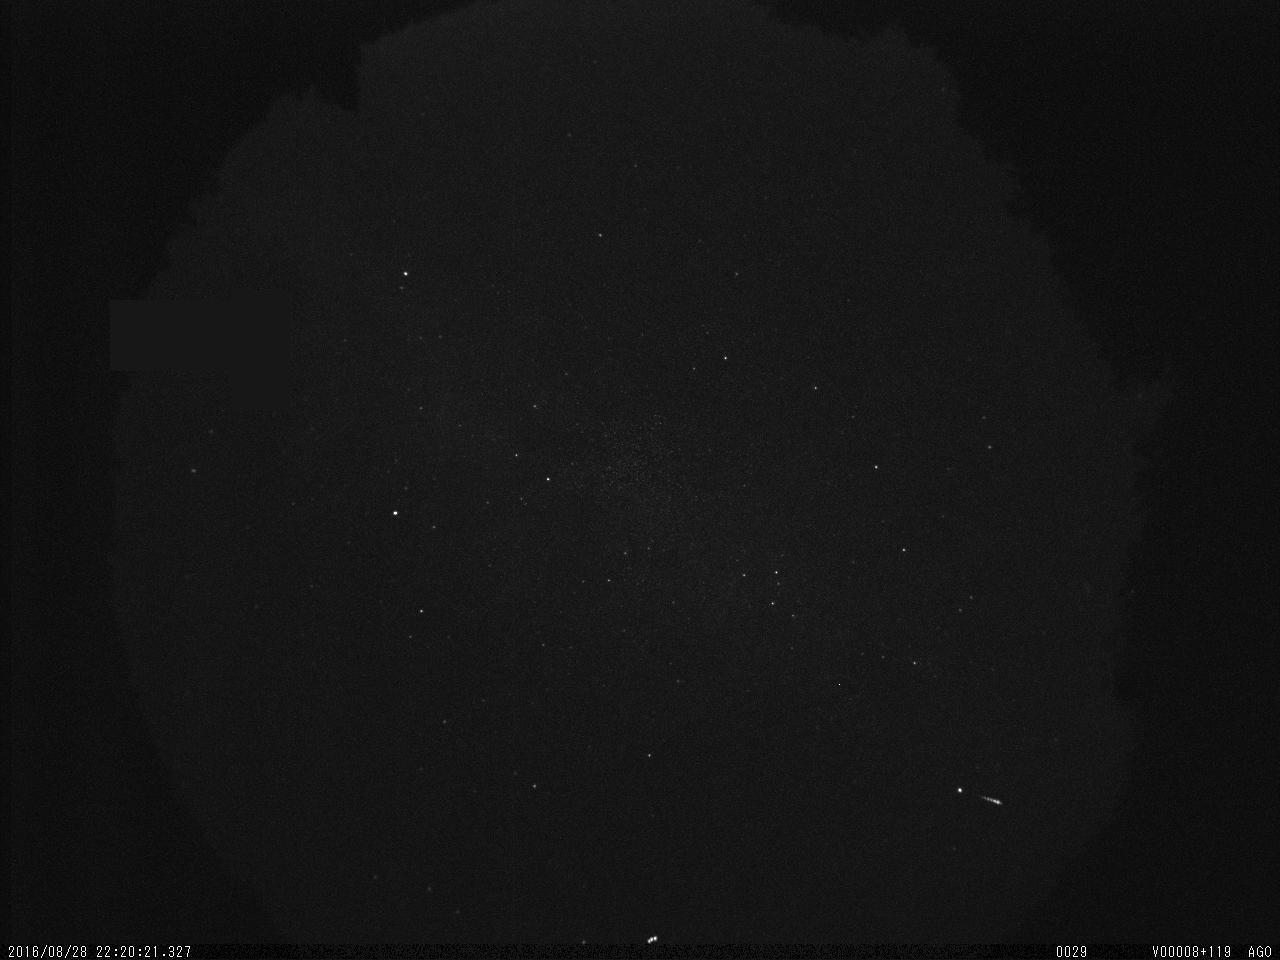meteor: (971, 773, 1017, 819)
